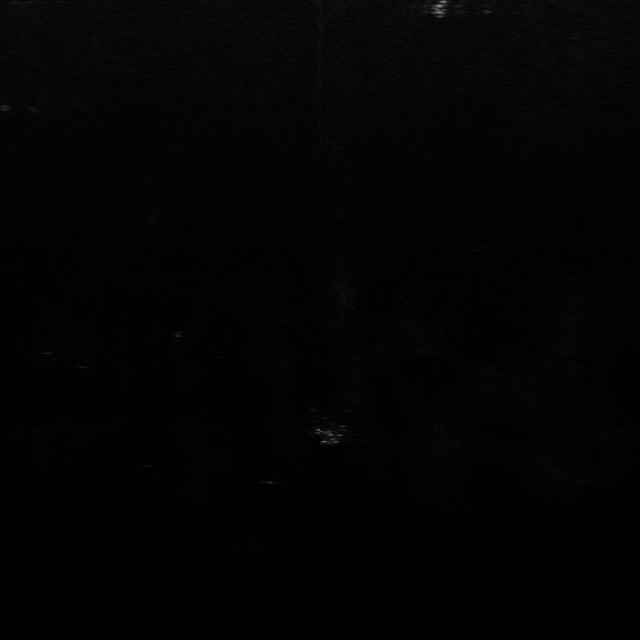rov: (431, 0, 453, 16)
